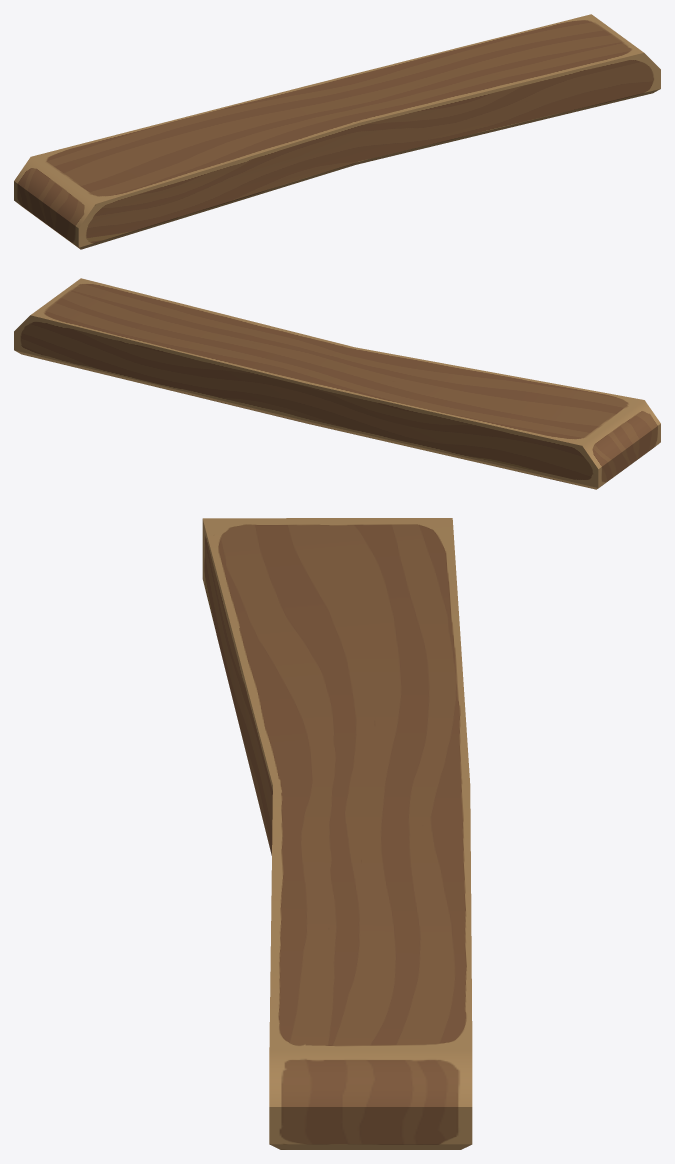
The model's file is TablonGrande1.fbx.
3 renders of one model, top to bottom at view 1: azimuth 30°, elevation 25°; view 2: azimuth 150°, elevation 25°; view 3: azimuth 270°, elevation 25°, orthographic. The views are drawn at different scales.
Visible parts, largest first — view 1: TablonGrande1; view 2: TablonGrande1; view 3: TablonGrande1.
Boxes of the visible parts, <box> form: TablonGrande1: <box>14,14,660,249</box>; TablonGrande1: <box>14,278,660,489</box>; TablonGrande1: <box>202,518,472,1149</box>.
Size of the model in its own units: 3.66 by 0.267 by 0.7384.
